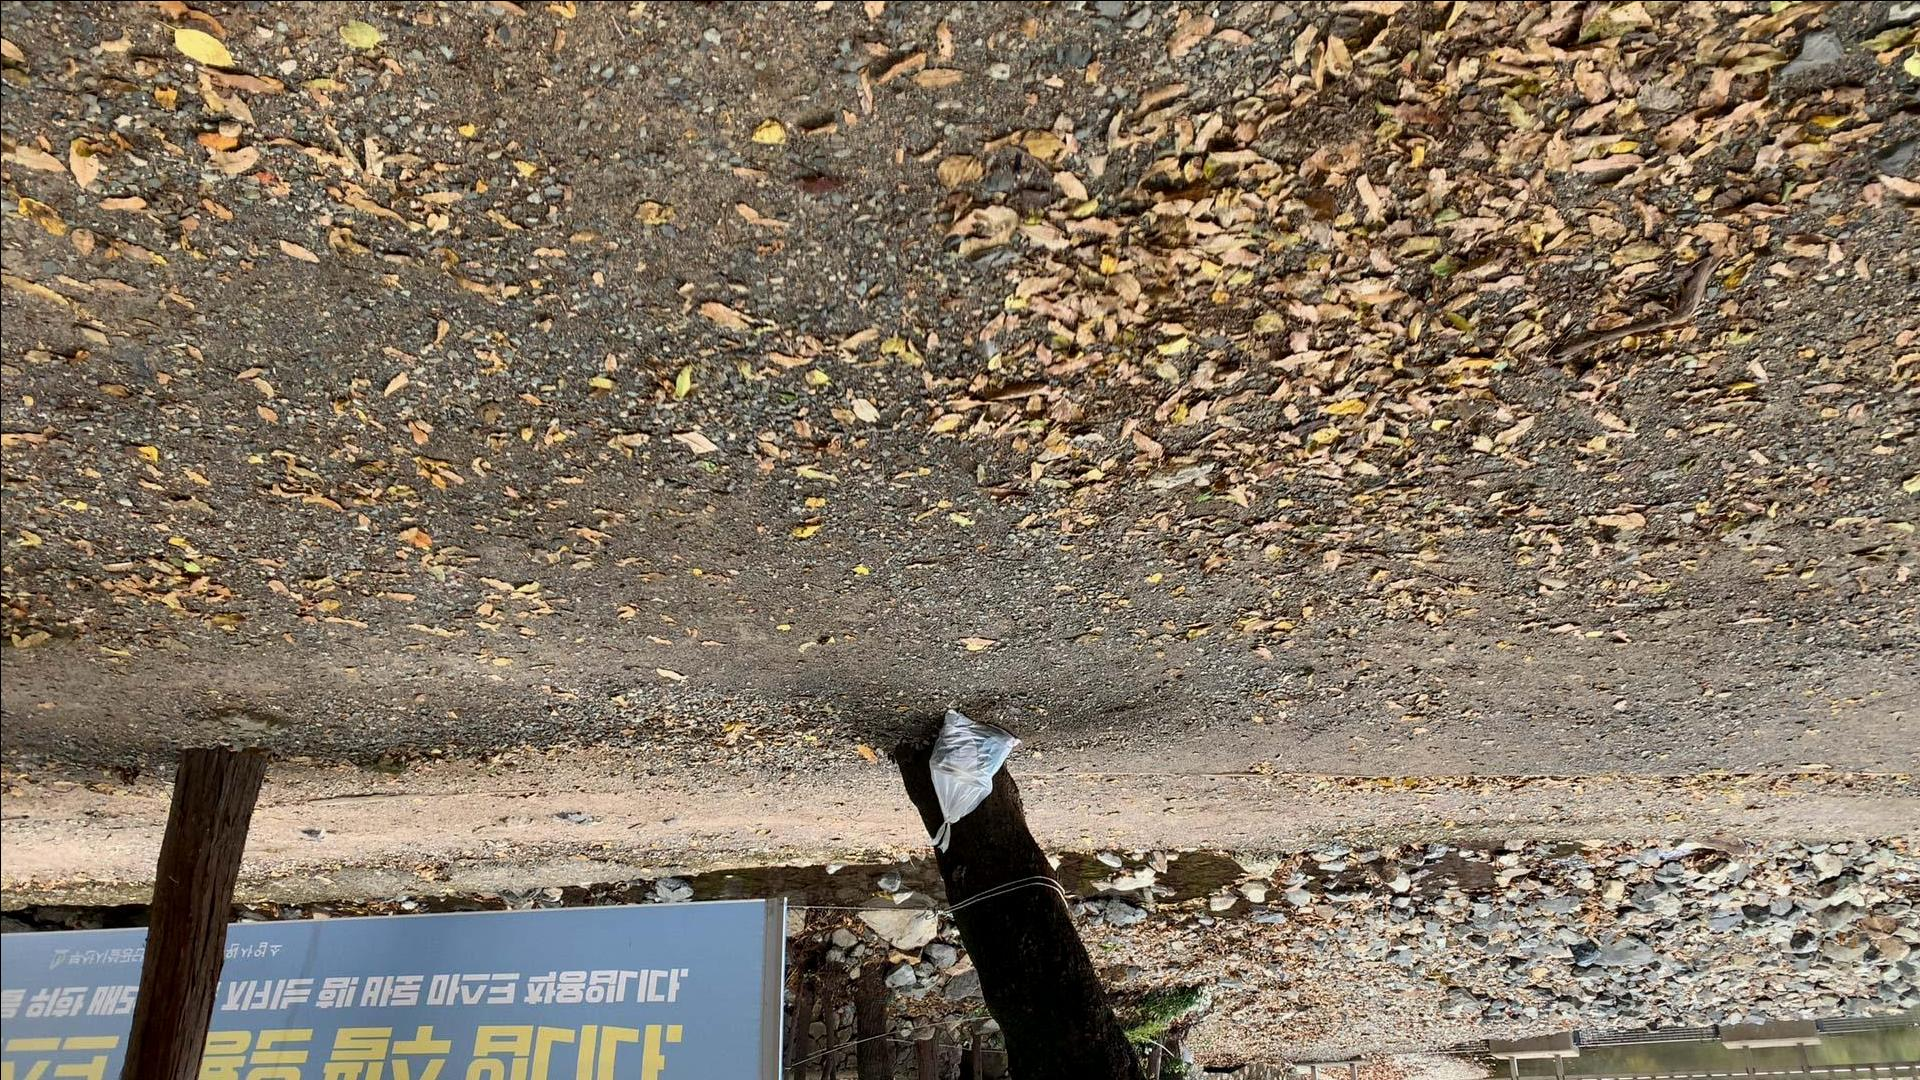white_bag: (913, 702, 1026, 858)
